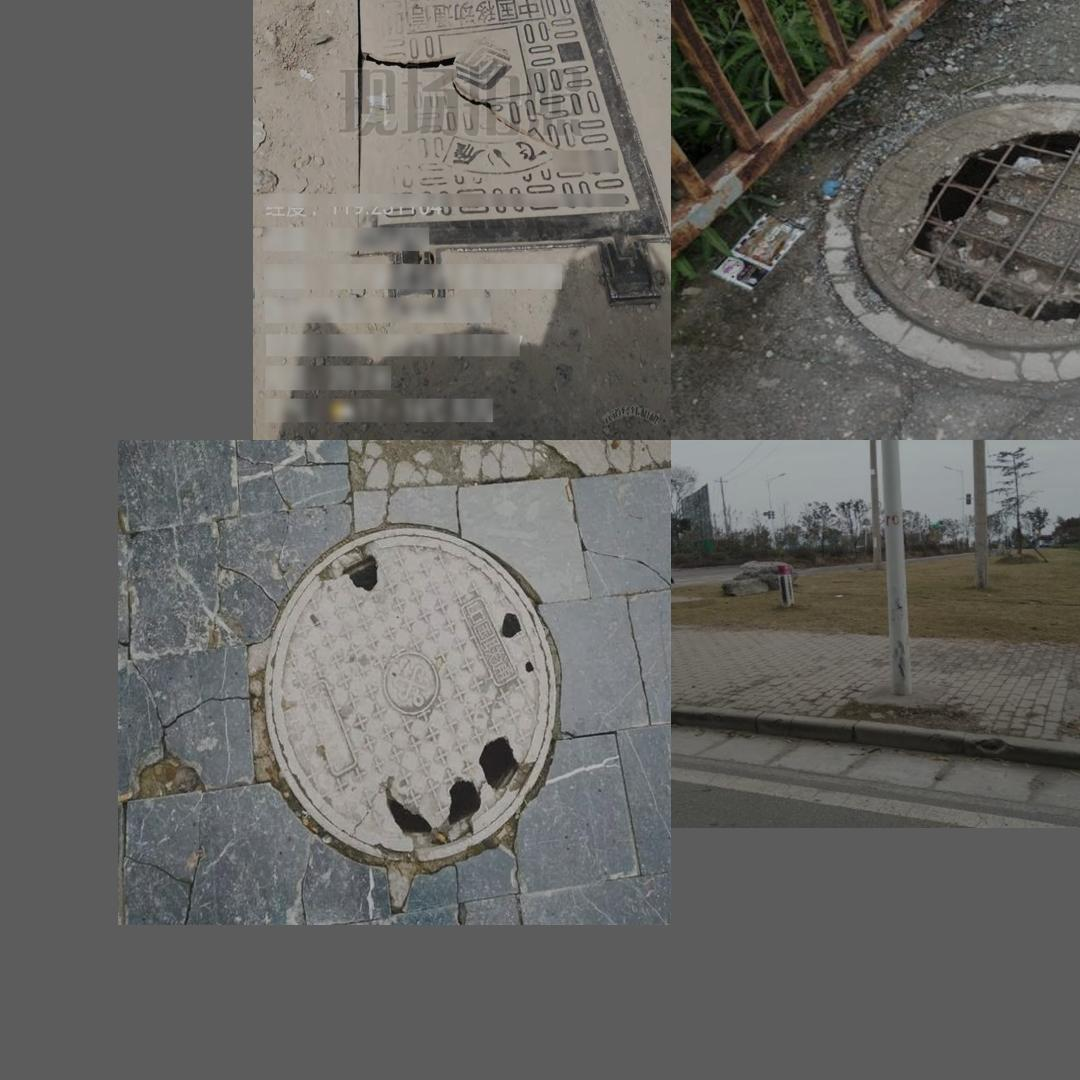broke: (349, 0, 671, 314), (264, 527, 556, 863), (830, 80, 1080, 386)
